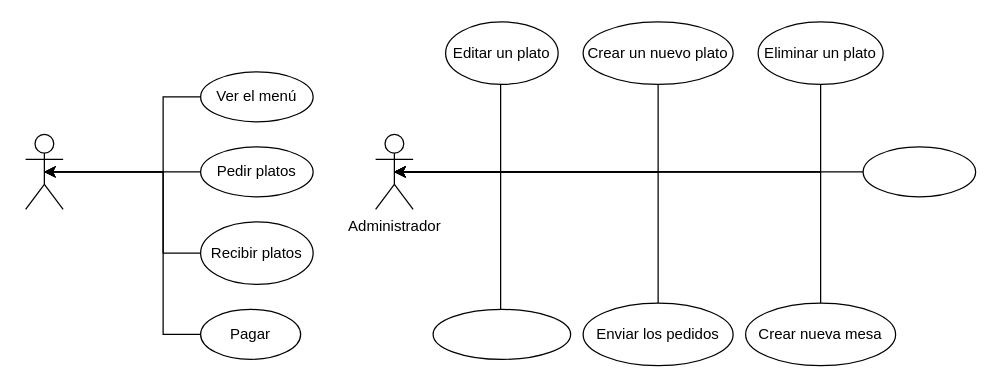
The diagram is 998 pixels wide and 388 high, and some of its shapes have lost their labels. Here are the shapes that lost their labels. From the top down, the box of each, then its label:
(24, 133, 63, 209): Cliente
(862, 146, 976, 197): Hacer cuenta
(432, 308, 571, 359): Ver los pedidos
